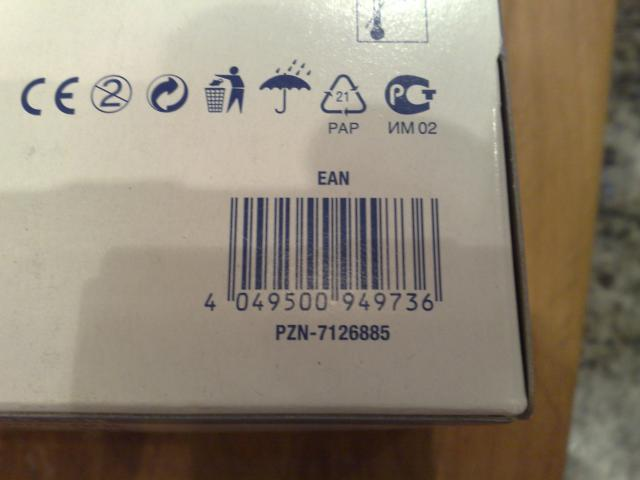Barcode: (190, 189, 463, 321)
